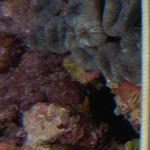dead: (3, 8, 143, 145)
